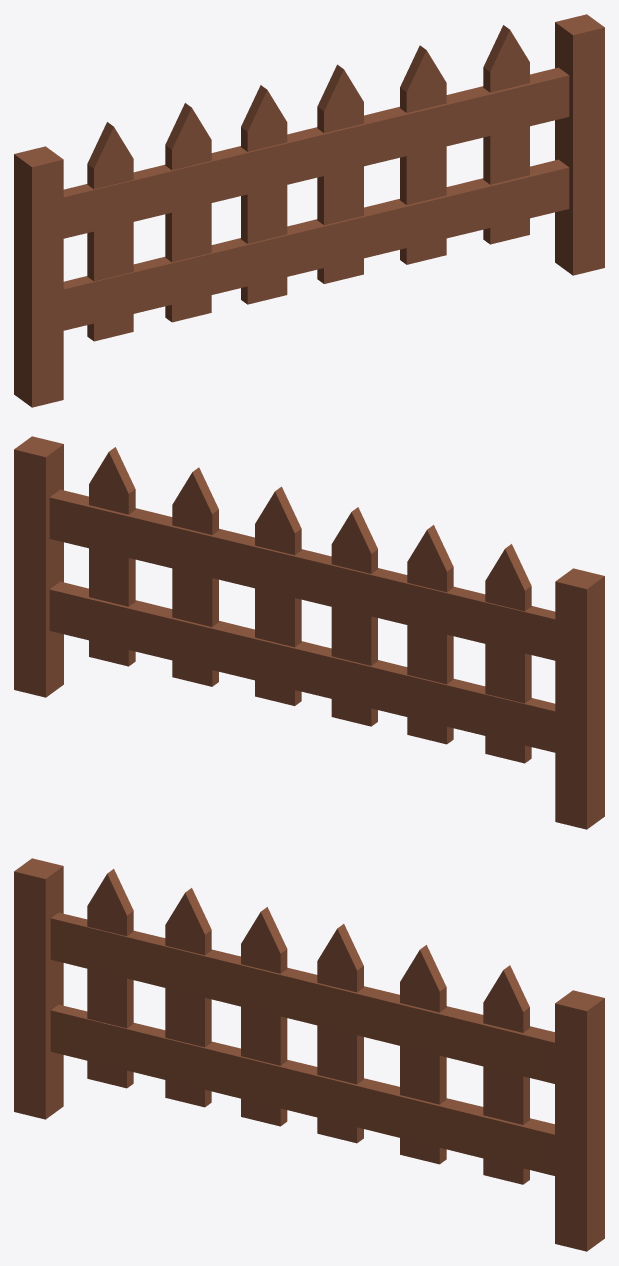
File: fence.fancy.close.glb
The picture shows the model from 3 angles, top to bottom: view 1: azimuth 30°, elevation 25°; view 2: azimuth 150°, elevation 25°; view 3: azimuth 330°, elevation 25°; orthographic projection.
Visible parts, largest first — view 1: fence.fancy.close; view 2: fence.fancy.close; view 3: fence.fancy.close.
Part boxes in pixels (x1,y1,x2,y2): fence.fancy.close: (14, 14, 604, 407); fence.fancy.close: (14, 436, 604, 829); fence.fancy.close: (14, 858, 604, 1251).
Bounding box in the file's own units: 3.03 × 1.3 × 0.1655.
